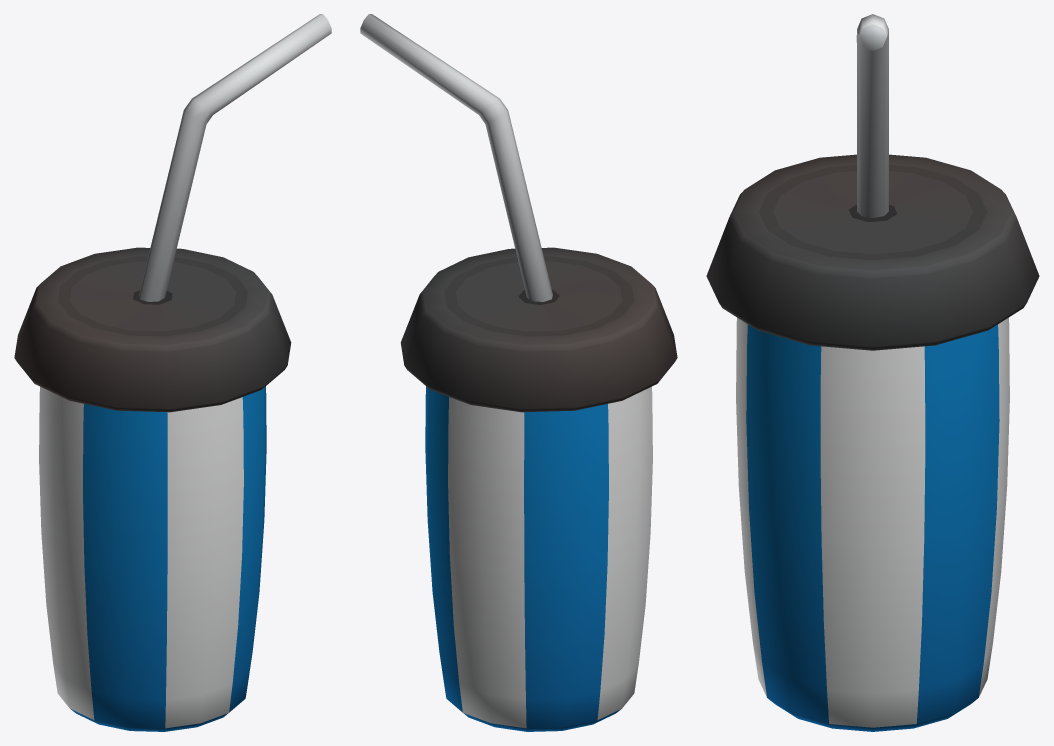
Rendered from soda_002.glb.
3 renders of one model, left to right at view 1: azimuth 30°, elevation 25°; view 2: azimuth 150°, elevation 25°; view 3: azimuth 270°, elevation 25°, orthographic. The views are drawn at different scales.
Parts seen in each view (by area): view 1: soda_002; view 2: soda_002; view 3: soda_002.
Boxes of the visible parts, x1=… form: soda_002: x1=14, y1=14, x2=331, y2=731; soda_002: x1=360, y1=14, x2=677, y2=731; soda_002: x1=706, y1=14, x2=1039, y2=731.
Size of the model in its own units: 0.1301 by 0.2681 by 0.1062.
Materials: 1 (1 with a texture image).
